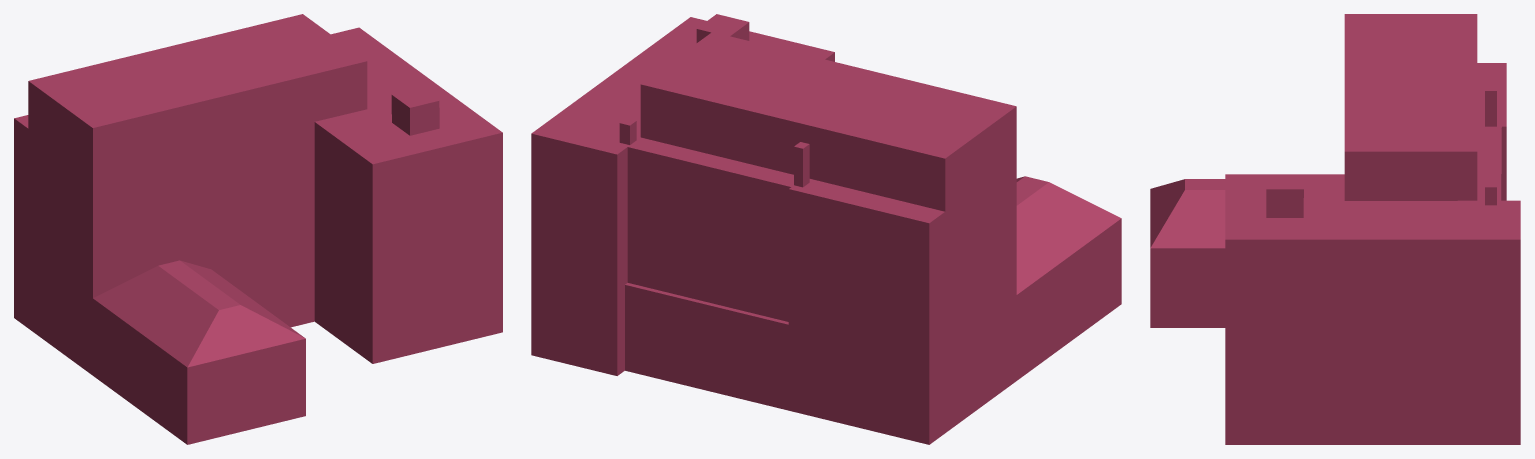
File: SM_Dyson_School_of_Engineering.fbx
3 renders of one model, left to right at view 1: azimuth 30°, elevation 25°; view 2: azimuth 150°, elevation 25°; view 3: azimuth 270°, elevation 25°, orthographic. The views are drawn at different scales.
Parts seen in each view (by area): view 1: SM_Dyson_School_of_Engineering; view 2: SM_Dyson_School_of_Engineering; view 3: SM_Dyson_School_of_Engineering.
Part boxes in pixels (<box>): SM_Dyson_School_of_Engineering: <box>14,14,502,444</box>; SM_Dyson_School_of_Engineering: <box>531,14,1121,444</box>; SM_Dyson_School_of_Engineering: <box>1150,14,1520,444</box>.
Bounding box in the file's own units: 35.86 × 24.11 × 31.8.
